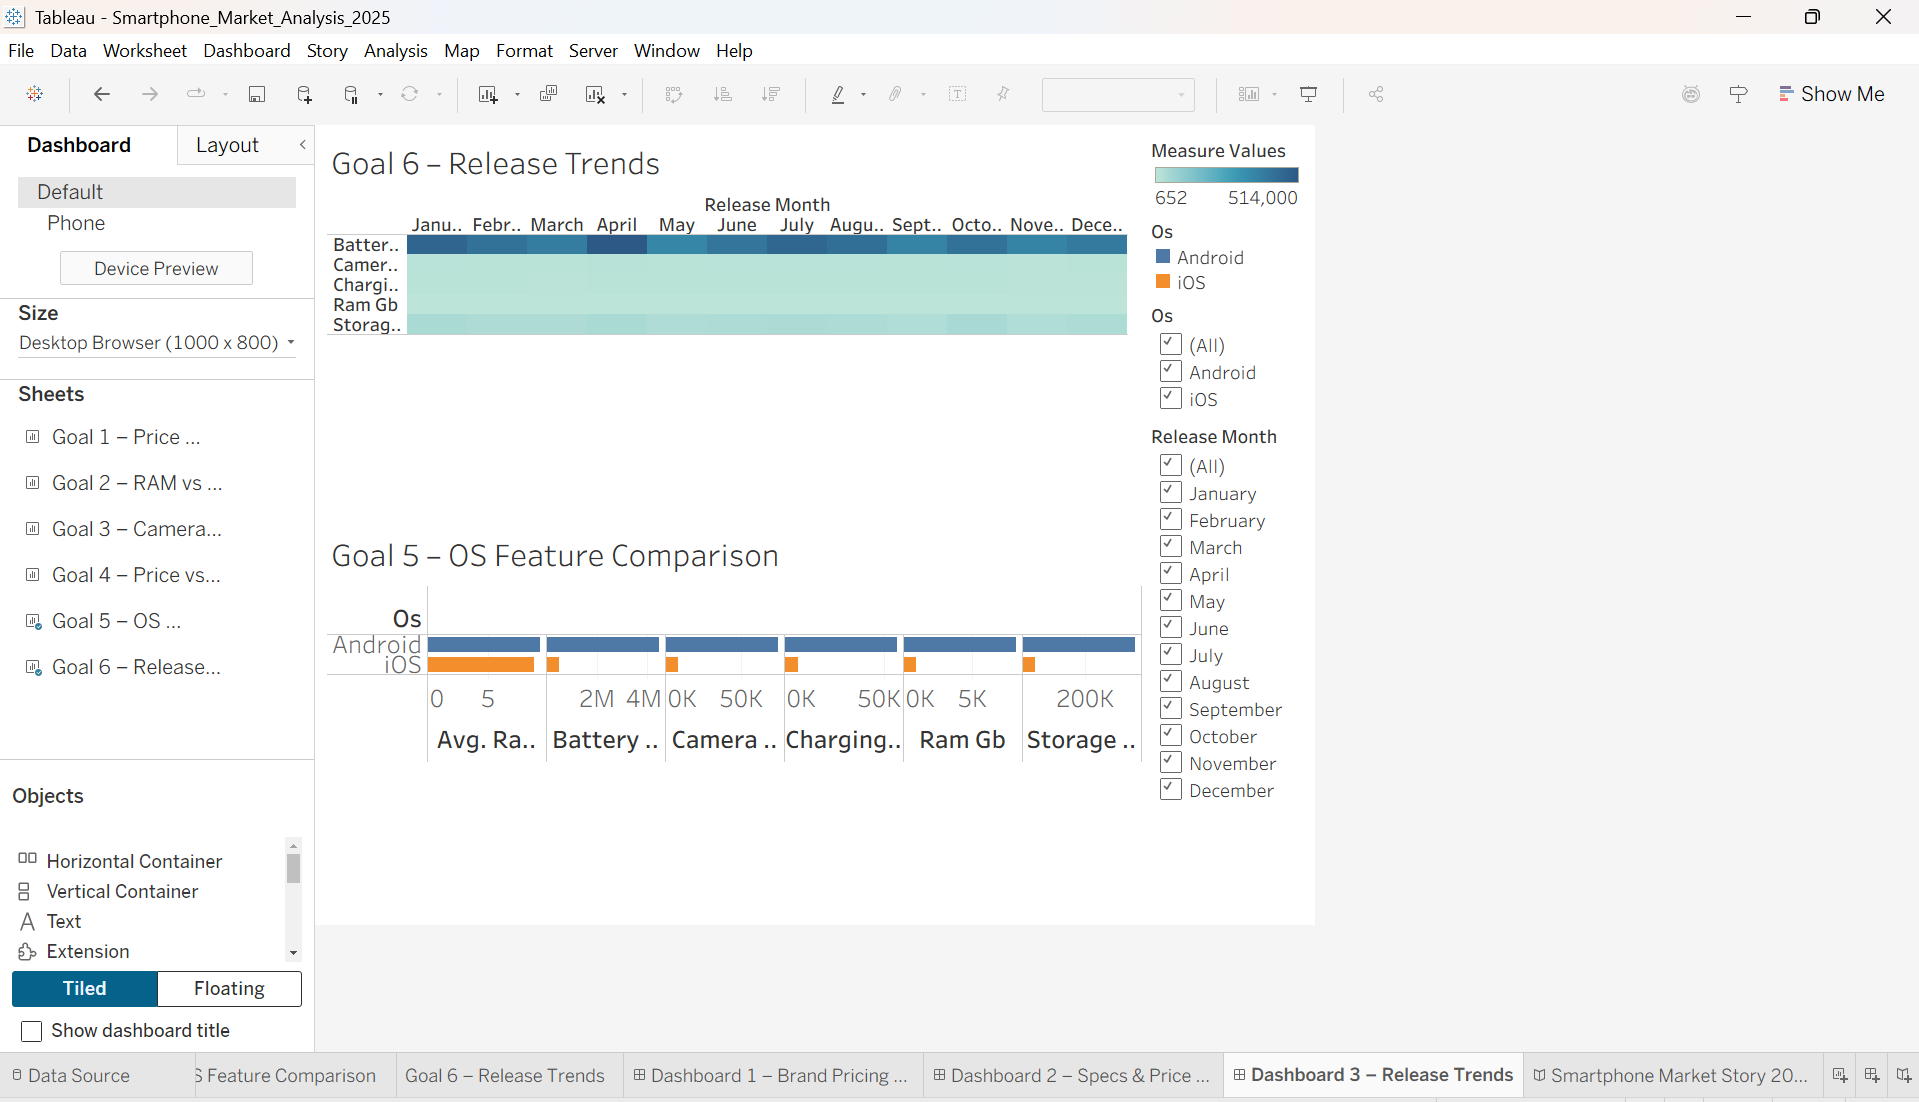

The dashboard page shown, as its layout file describes it:
{"tool":"tableau","page":{"name":"Dashboard 3 – Release Trends","canvas":[1000,800],"ordinal":2},"visuals":[{"type":"worksheet","title":"Goal 6 – Release Trends","mark":"Square","cols":["release_month"],"box":[8,8,824,392]},{"type":"legend","title":"Goal 6 – Release Trends","param":"[federated.0kggtna03bu2wg19w123r0m4o8ir].[Multiple Values]","box":[832,8,160,81]},{"type":"legend","title":"Goal 5 – OS Feature Comparison","param":"[federated.0kggtna03bu2wg19w123r0m4o8ir].[none:os:nk]","box":[832,89,160,84]},{"type":"filter","title":"Goal 5 – OS Feature Comparison","param":"[federated.0kggtna03bu2wg19w123r0m4o8ir].[none:os:nk]","box":[832,173,160,121]},{"type":"filter","title":"Goal 6 – Release Trends","param":"[federated.0kggtna03bu2wg19w123r0m4o8ir].[none:release_month:nk]","box":[832,294,160,391]},{"type":"worksheet","title":"Goal 5 – OS Feature Comparison","mark":"Automatic","rows":["os"],"cols":["ram_gb","battery_mah","camera_mp","charging_watt","ram_gb","storage_gb"],"box":[8,400,824,392]}]}

Visuals, with their boxes on the page's 1000x800 design canvas (x1, y1, x2, y2). These are canvas units, not pixel positions in the 1919x1102 screenshot, which may show the page scaled, cropped or inside an application window:
"Goal 6 – Release Trends" worksheet (Square marks): (left=8, top=8, right=832, bottom=400)
"Goal 6 – Release Trends" legend: (left=832, top=8, right=992, bottom=89)
"Goal 5 – OS Feature Comparison" legend: (left=832, top=89, right=992, bottom=173)
"Goal 5 – OS Feature Comparison" filter: (left=832, top=173, right=992, bottom=294)
"Goal 6 – Release Trends" filter: (left=832, top=294, right=992, bottom=685)
"Goal 5 – OS Feature Comparison" worksheet: (left=8, top=400, right=832, bottom=792)
